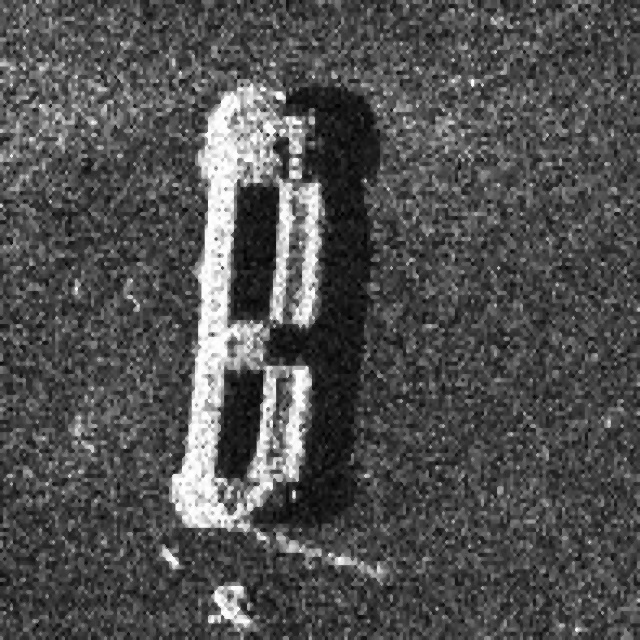Ship: (170, 62, 395, 640)
